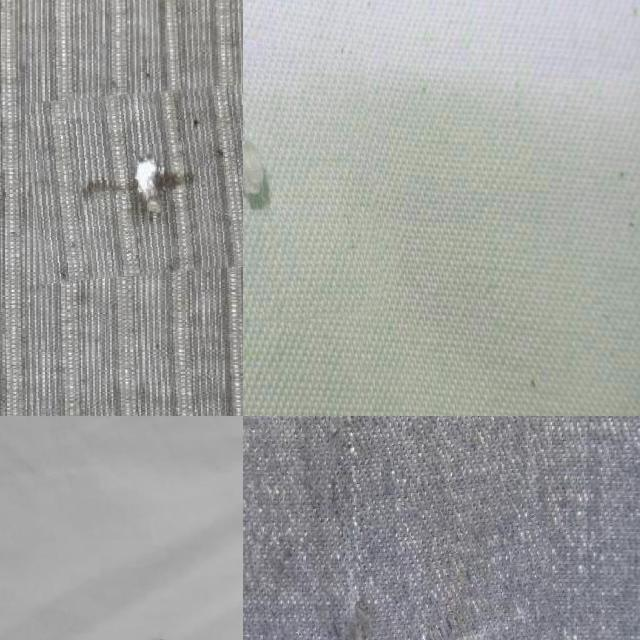Hole: (0, 416, 243, 640)
Thread_other: (243, 416, 560, 640), (243, 42, 380, 328)
seam: (29, 88, 243, 280)
